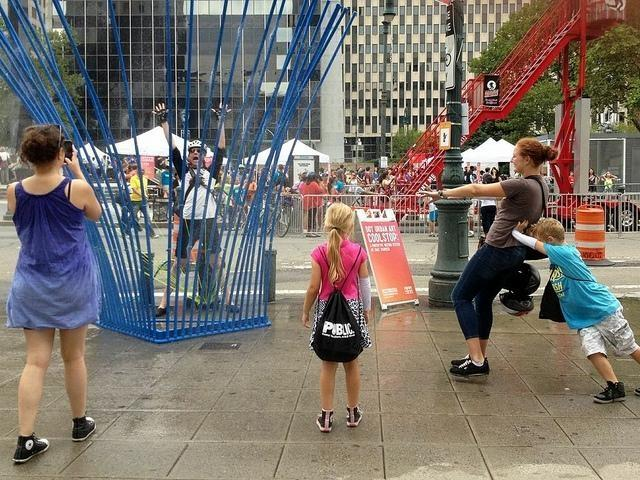bicycle: (268, 196, 292, 237)
